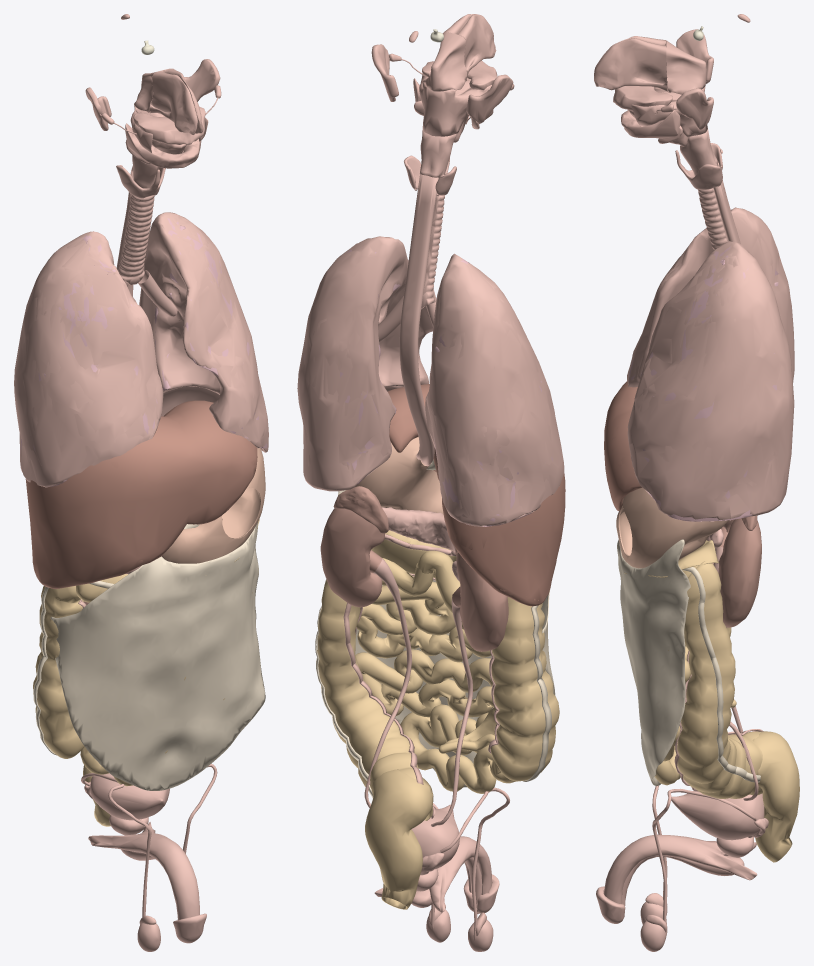
Rendered from visceral-web.glb.
3 views of the same model, side by side, from view 1: azimuth 30°, elevation 25°; view 2: azimuth 150°, elevation 25°; view 3: azimuth 270°, elevation 25° (orthographic). The views are drawn at different scales.
Visible parts, largest first — view 1: Pleura.001, Greater omentum.001, Liver.001, Ascending colon.001, Corpus cavernosum of penis.001, Stomach.001, Gingiva.001, Mucosa of nasal cavity.001, Urinary bladder.001, Trachea.001, Mucosa of stomach.001, Superior lobe of right lung.001 (+9 smaller); view 2: Pleura.001, Jejunum.001, Liver.001, Ascending colon.001, Descending colon.001, Sigmoid colon.001, Oesophagus.001, Kidney.l.001, Stomach.001, Kidney.r.001, Oropharynx.001, Pancreas.001 (+21 smaller); view 3: Pleura.001, Greater omentum.001, Descending colon.001, Sigmoid colon.001, Stomach.001, Kidney.l.001, Corpus cavernosum of penis.001, Mucosa of nasal cavity.001, Urinary bladder.001, Liver.001, Gingiva.001, Mesocolic taenia.001 (+17 smaller).
Boxes of the visible parts, bbox=[...] form: Pleura.001: bbox=[14, 212, 268, 487]; Greater omentum.001: bbox=[50, 521, 265, 790]; Liver.001: bbox=[25, 400, 257, 588]; Ascending colon.001: bbox=[33, 586, 84, 758]; Corpus cavernosum of penis.001: bbox=[88, 822, 199, 920]; Stomach.001: bbox=[161, 448, 265, 563]; Gingiva.001: bbox=[125, 106, 205, 168]; Mucosa of nasal cavity.001: bbox=[150, 68, 203, 134]; Urinary bladder.001: bbox=[90, 773, 169, 820]; Trachea.001: bbox=[118, 194, 154, 285]; Mucosa of stomach.001: bbox=[222, 487, 260, 538]; Superior lobe of right lung.001: bbox=[55, 235, 138, 375]; Pleura.001: bbox=[297, 236, 564, 526]; Jejunum.001: bbox=[355, 558, 516, 793]; Liver.001: bbox=[387, 384, 565, 606]; Ascending colon.001: bbox=[490, 597, 559, 781]; Descending colon.001: bbox=[317, 580, 432, 820]; Sigmoid colon.001: bbox=[365, 769, 433, 909]; Oesophagus.001: bbox=[399, 174, 438, 466]; Kidney.l.001: bbox=[320, 508, 384, 607]; Stomach.001: bbox=[345, 437, 443, 514]; Kidney.r.001: bbox=[456, 552, 508, 651]; Oropharynx.001: bbox=[419, 74, 491, 136]; Pancreas.001: bbox=[382, 507, 459, 581]; Pleura.001: bbox=[627, 207, 794, 520]; Greater omentum.001: bbox=[617, 539, 690, 785]; Descending colon.001: bbox=[677, 561, 762, 798]; Sigmoid colon.001: bbox=[752, 731, 799, 862]; Stomach.001: bbox=[616, 487, 728, 568]; Kidney.l.001: bbox=[718, 518, 761, 627]; Corpus cavernosum of penis.001: bbox=[603, 834, 757, 903]; Mucosa of nasal cavity.001: bbox=[594, 36, 667, 91]; Urinary bladder.001: bbox=[671, 790, 764, 840]; Liver.001: bbox=[604, 381, 641, 511]; Gingiva.001: bbox=[613, 86, 680, 138]; Mesocolic taenia.001: bbox=[682, 567, 760, 782].
Size of the model in its own units: 0.2325 by 0.8931 by 0.1798.
